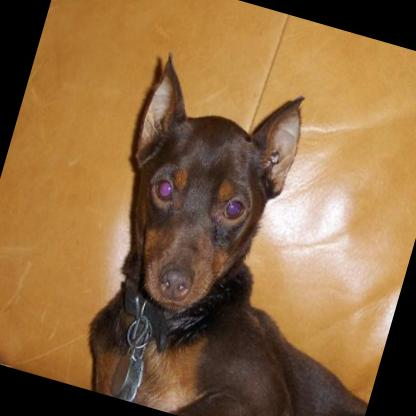miniature_pinscher: (61, 43, 416, 416)
